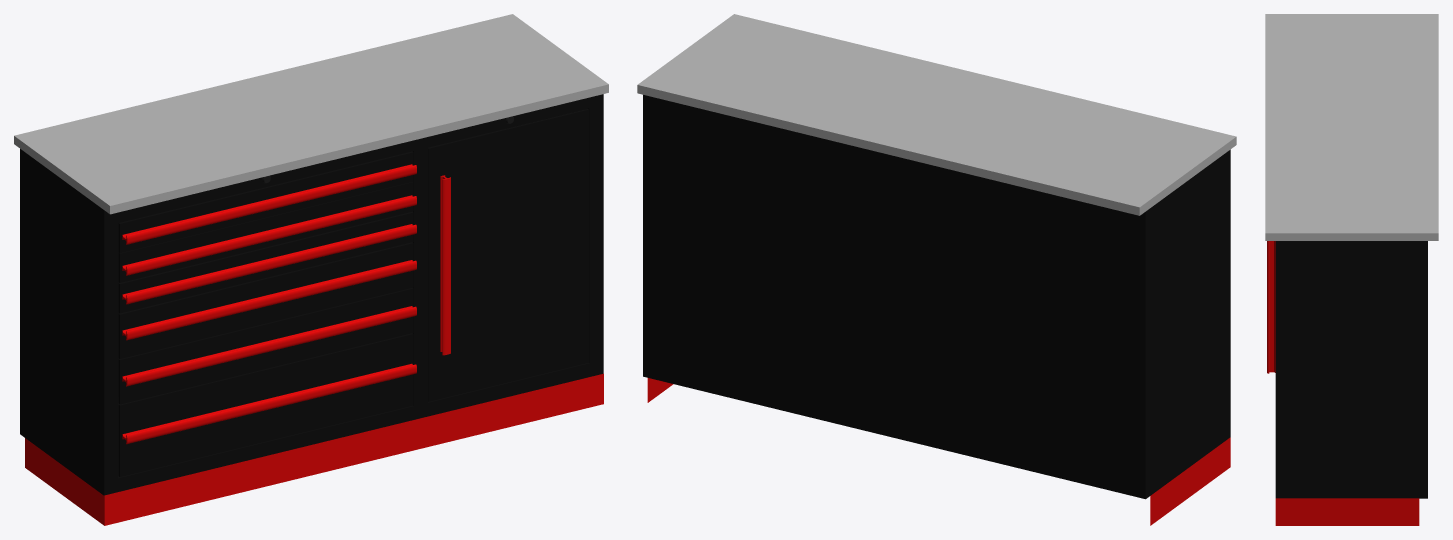
File: Fusion_Pro_Tool.fbx
The picture shows the model from 3 angles, left to right: view 1: azimuth 30°, elevation 25°; view 2: azimuth 150°, elevation 25°; view 3: azimuth 270°, elevation 25°; orthographic projection. The views are drawn at different scales.
Visible parts, largest first — view 1: FP_Tool_Top.001, FP_Tool_Top.000, FP_Tool_Handle_1, FP_Tool_Kick.001; view 2: FP_Tool_Top.001, FP_Tool_Top.000, FP_Tool_Kick.001; view 3: FP_Tool_Top.000, FP_Tool_Top.001, FP_Tool_Kick.001, FP_Tool_Handle_1.
Boxes of the visible parts, x1,y1,x2,y2 form: FP_Tool_Top.001: (20, 94, 603, 495); FP_Tool_Top.000: (14, 14, 608, 214); FP_Tool_Handle_1: (122, 164, 450, 444); FP_Tool_Kick.001: (25, 373, 603, 525); FP_Tool_Top.001: (643, 95, 1230, 499); FP_Tool_Top.000: (637, 14, 1236, 215); FP_Tool_Kick.001: (647, 378, 1230, 525); FP_Tool_Top.000: (1265, 14, 1438, 240); FP_Tool_Top.001: (1275, 241, 1427, 498); FP_Tool_Kick.001: (1275, 498, 1419, 525); FP_Tool_Handle_1: (1267, 241, 1275, 373).
Size of the model in its own units: 158 by 97.73 by 52.53.
